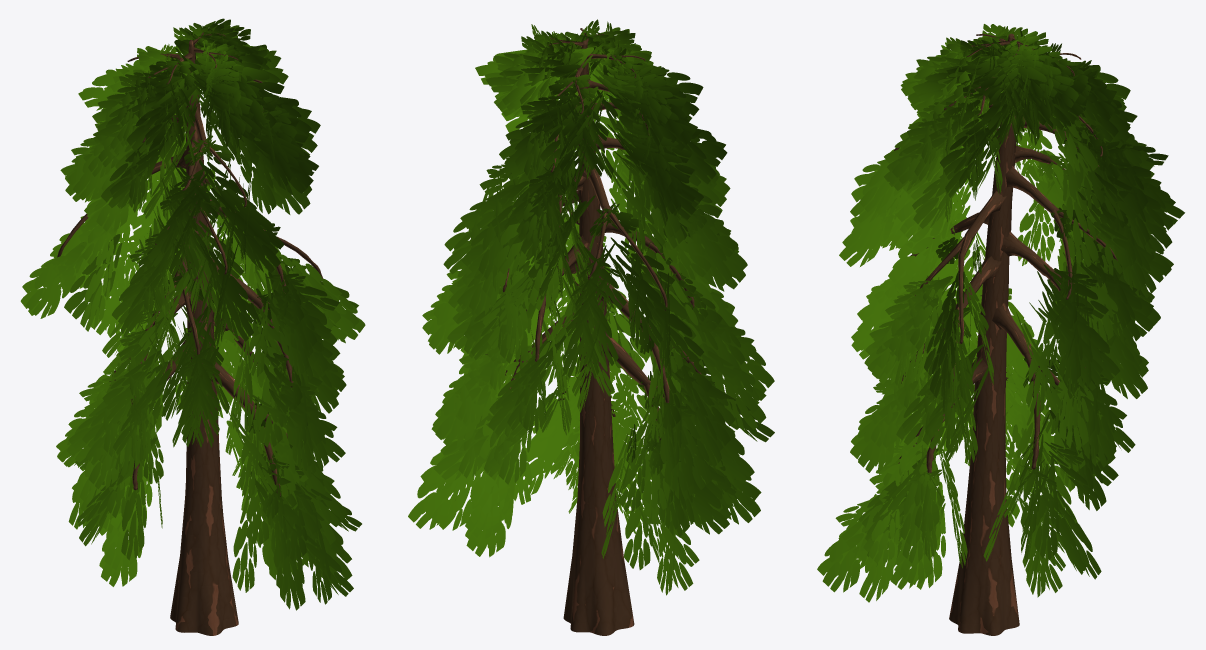
Rendered from nature_giantpine_1.glb.
3 renders of one model, left to right at view 1: azimuth 30°, elevation 25°; view 2: azimuth 150°, elevation 25°; view 3: azimuth 270°, elevation 25°, orthographic. The views are drawn at different scales.
Visible parts, largest first — view 1: nature_giantpine_1; view 2: nature_giantpine_1; view 3: nature_giantpine_1.
Part boxes in pixels (bbox=[...]): nature_giantpine_1: bbox=[20, 18, 365, 635]; nature_giantpine_1: bbox=[408, 19, 774, 635]; nature_giantpine_1: bbox=[817, 24, 1184, 635].
Bounding box in the file's own units: 919 × 1717 × 994.
2 materials, 2 textured.
